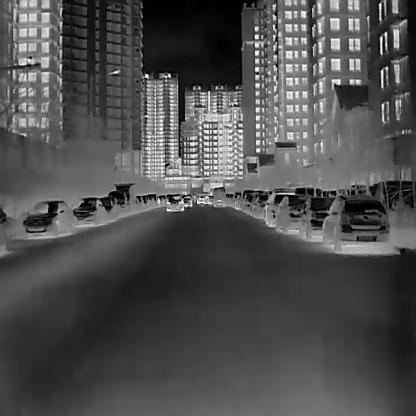car: (321, 194, 391, 251), (296, 195, 336, 241), (21, 199, 73, 234), (274, 193, 306, 234), (263, 191, 296, 227), (107, 181, 135, 215), (71, 197, 103, 224), (100, 195, 120, 219), (252, 193, 269, 221), (165, 192, 184, 214), (241, 192, 254, 213), (135, 194, 146, 212), (182, 193, 193, 208)
